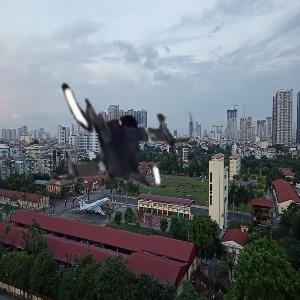drone: (29, 44, 201, 216)
